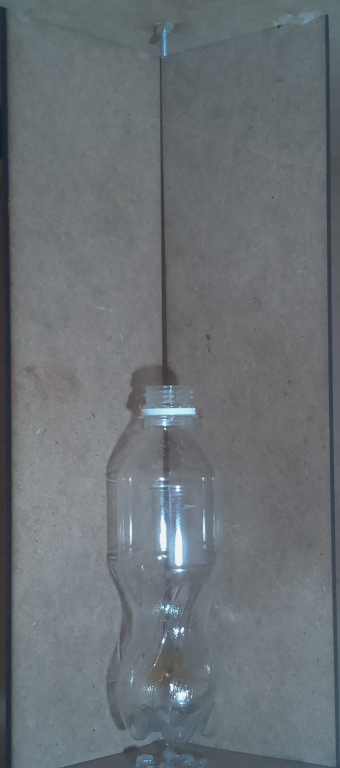Bouteille_0.3L: (108, 380, 226, 748)
